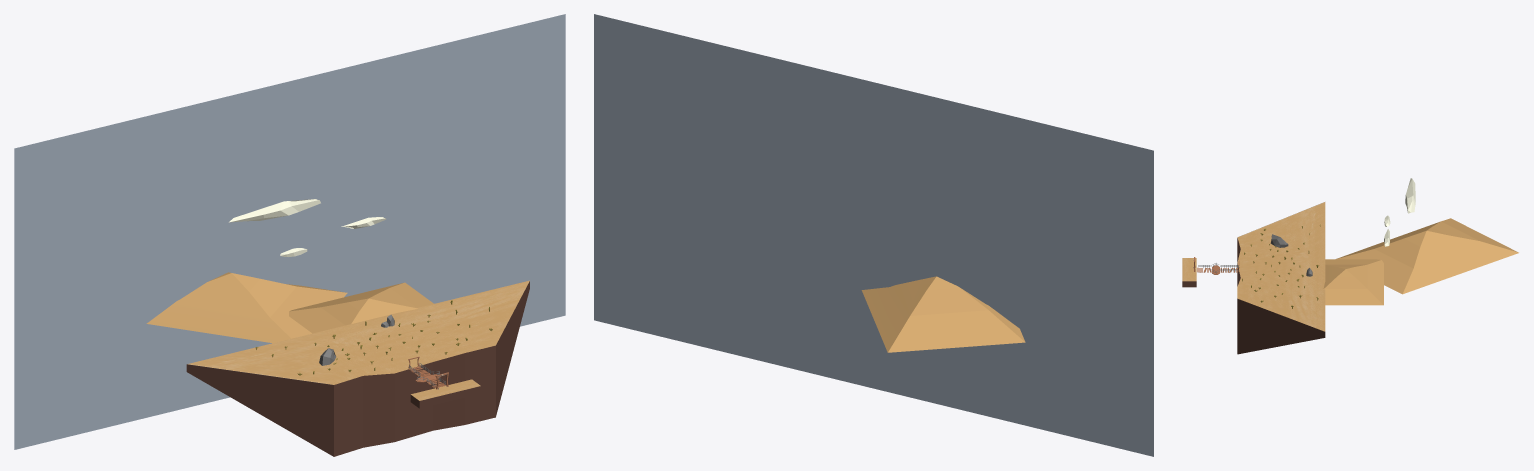
Rendered from Ponte.fbx.
3 renders of one model, left to right at view 1: azimuth 30°, elevation 25°; view 2: azimuth 150°, elevation 25°; view 3: azimuth 270°, elevation 25°, orthographic. The views are drawn at different scales.
Visible parts, largest first — view 1: Cube.003; view 2: Cube.003; view 3: Cube.003.
Part boxes in pixels (x1,y1,x2,y2): Cube.003: (14,14,565,456); Cube.003: (594,14,1153,456); Cube.003: (1182,178,1518,354).
Bounding box in the file's own units: 14917 × 7799 × 10178.
